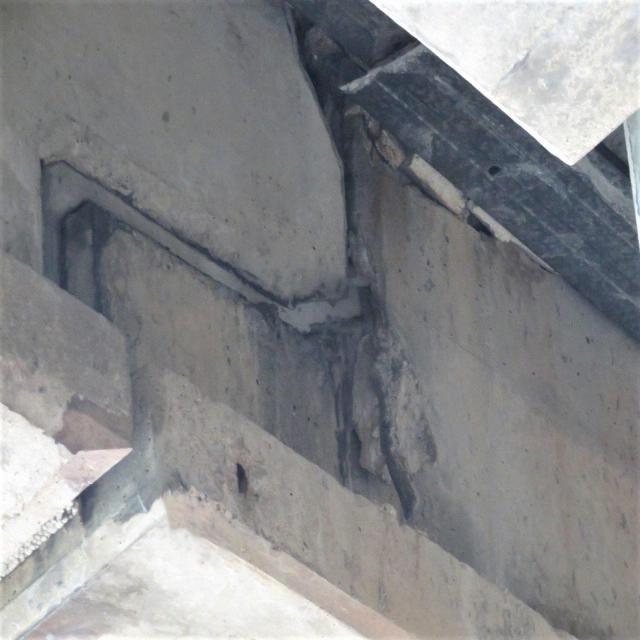Rebar: (326, 286, 437, 533)
concrete spalling: (235, 461, 249, 497)
